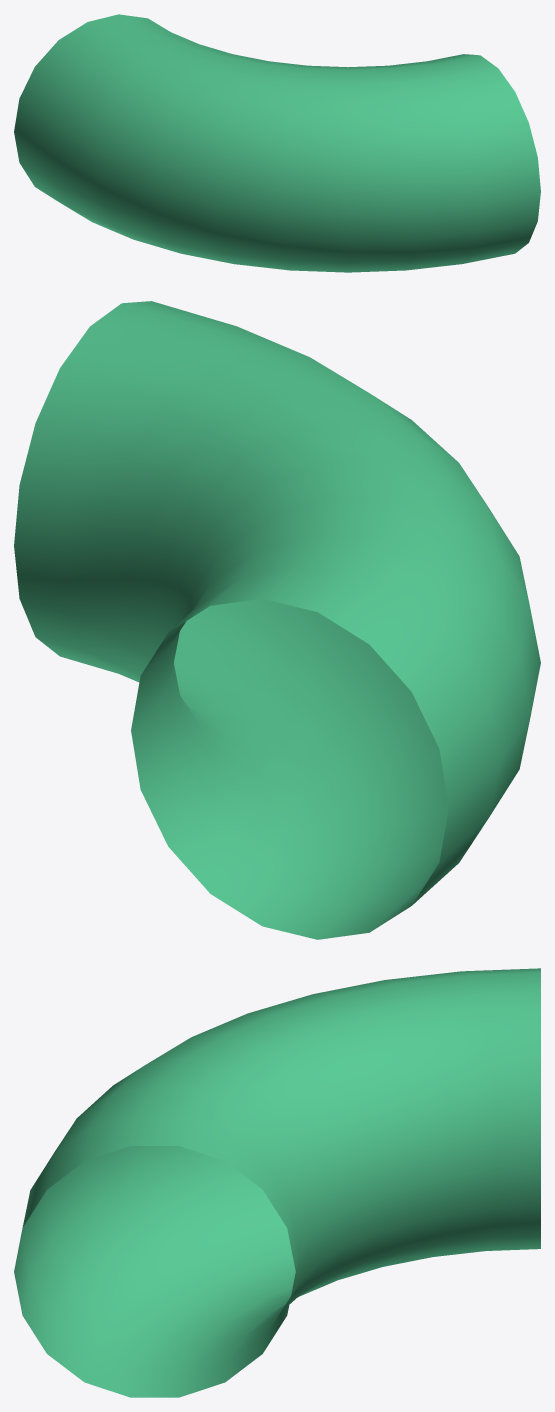
The model's file is PipeCurve.fbx.
The picture shows the model from 3 angles, top to bottom: view 1: azimuth 30°, elevation 25°; view 2: azimuth 150°, elevation 25°; view 3: azimuth 270°, elevation 25°; orthographic projection. The views are drawn at different scales.
Visible parts, largest first — view 1: PipeCurve:PipeCurve; view 2: PipeCurve:PipeCurve; view 3: PipeCurve:PipeCurve.
Part boxes in pixels (box(x1,y1,x2,y2)): PipeCurve:PipeCurve: box(14, 14, 540, 272); PipeCurve:PipeCurve: box(14, 301, 540, 939); PipeCurve:PipeCurve: box(14, 968, 540, 1397).
Bounding box in the file's own units: 8.69 × 4.57 × 8.69.
